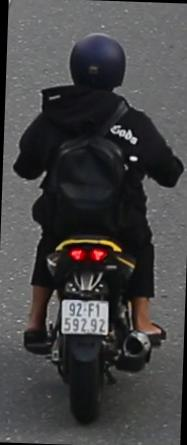LP: (58, 296, 110, 340)
helmet: (63, 29, 130, 96)
